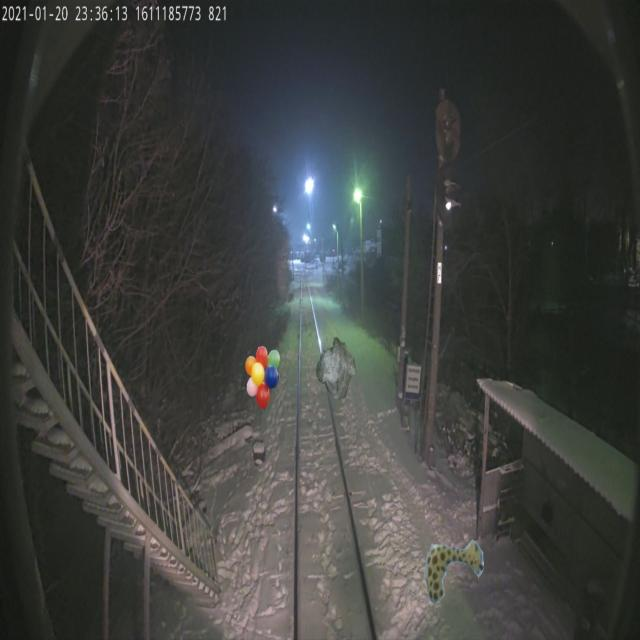balloon: (244, 346, 280, 410)
floating object: (424, 540, 484, 604)
plastic bag: (316, 336, 356, 400)
